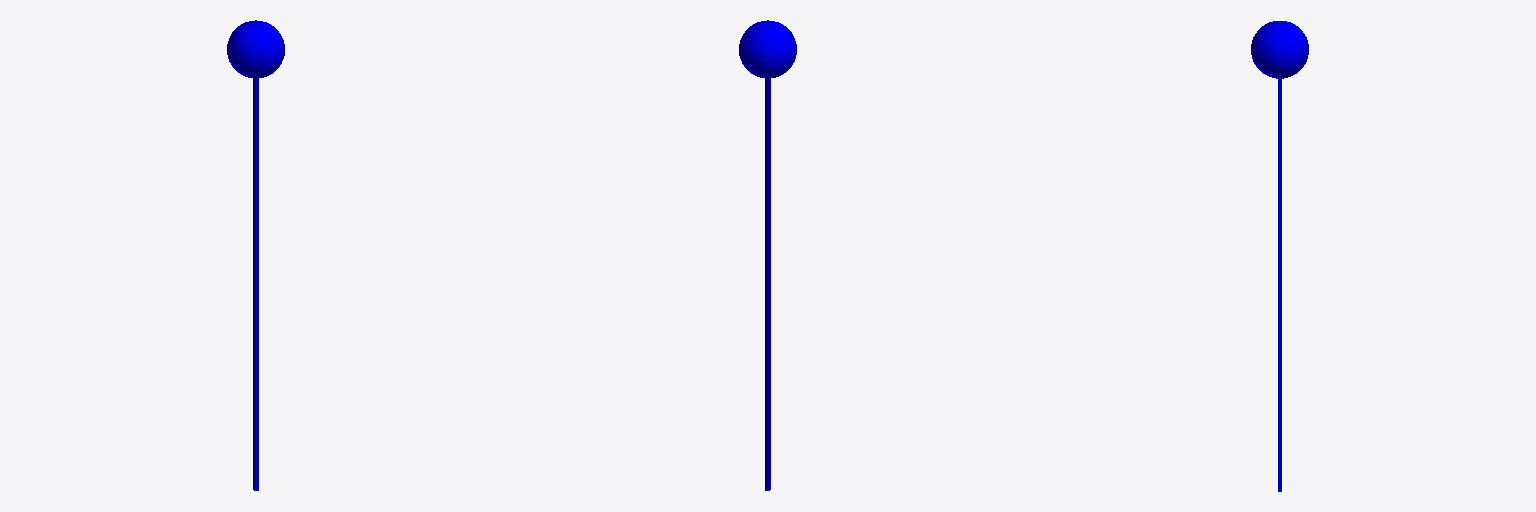
robot.urdf — pendulum:
<?xml version="1.0" ?>
<robot name="pendulum">
    <link name="base"/>

    <joint name="PendulumJoint" type="continuous">
      <origin xyz="0.0 0.0 0.0" rpy="0.0 0.0 0.0"/>
      <axis xyz="1 0 0"/>
      <parent link="base"/>
      <child link="PendulumArm"/>
      <limit effort="20.0" velocity="100.0"/>
    </joint>

    <link name="PendulumArm">
        <visual>
            <origin xyz="0.0 0.0 0.5" rpy="0.0 0.0 0.0" />
            <geometry>
                <box size="0.01 0.01 1.0"/>
            </geometry>
            <material name="">
                <color rgba="0.0 0.0 1.0 1.0"/>
            </material>
        </visual>
        <inertial>
            <origin xyz="0.0 0.0 0.0" rpy="0.0 0.0 0.0"/>
            <mass value="0.0"/>
            <inertia ixx="0.0" ixy="0.0" ixz="0.0" iyy="0.0" iyz="0.0" izz="0.0"/>
        </inertial>
    </link>

    <joint name="PendulumMassJoint" type="fixed">
      <origin xyz="0.0 0.0 1.0" rpy="0.0 0.0 0.0"/>
      <parent link="PendulumArm"/>
      <child link="PendulumMass"/>
    </joint>
    <link name="PendulumMass">
        <visual>
            <origin xyz="0.0 0.0 0.0" rpy="0.0 0.0 0.0" />
            <geometry>
                <sphere radius="0.06"/>
            </geometry>
            <material name="">
                <color rgba="0.0 0.0 1.0 1.0"/>
            </material>
        </visual>
        <inertial>
            <origin xyz="0.0 0.0 0.0" rpy="0.0 0.0 0.0"/>
            <mass value="1.0"/>
            <inertia ixx="0.0" ixy="0.0" ixz="0.0" iyy="0.0" iyz="0.0" izz="0.0"/>
        </inertial>
    </link>
</robot>

--- Render facts (derived) ---
The picture shows the robot from 3 angles, left to right: view 1: azimuth 30°, elevation 25°; view 2: azimuth 150°, elevation 25°; view 3: azimuth 270°, elevation 25°; orthographic projection.
Robot: pendulum — 3 links, 2 joints (1 continuous, 1 fixed); root link base; default pose: all joints at 0.
Visible links, largest first — view 1: PendulumMass, PendulumArm; view 2: PendulumMass, PendulumArm; view 3: PendulumMass, PendulumArm.
Link boxes in pixels (x1,y1,x2,y2): PendulumMass: (227, 20, 284, 78); PendulumArm: (253, 79, 258, 490); PendulumMass: (739, 20, 796, 78); PendulumArm: (765, 79, 770, 490); PendulumMass: (1251, 21, 1308, 78); PendulumArm: (1278, 79, 1281, 491).
Size in the robot's own frame: 0.12 by 0.12 by 1.06 metres.
Geometry: primitives only (box / cylinder / sphere), no mesh files.
